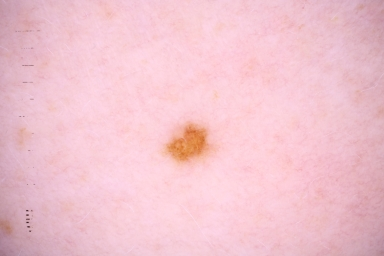nevus: (162, 126, 205, 162)
